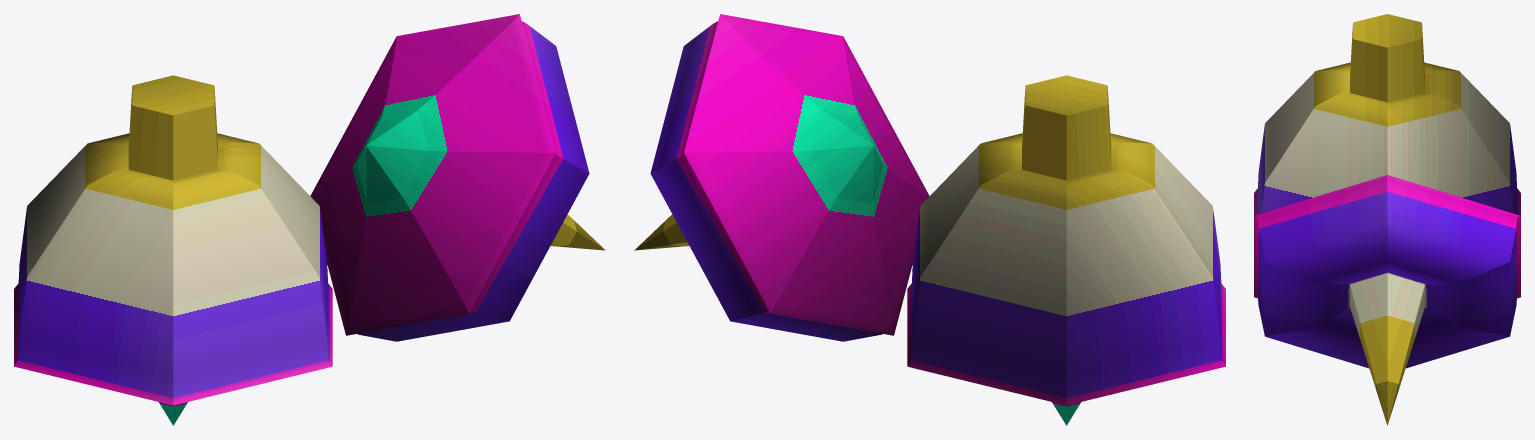
The model's file is SM_SpinTop.fbx.
3 renders of one model, left to right at view 1: azimuth 30°, elevation 25°; view 2: azimuth 150°, elevation 25°; view 3: azimuth 270°, elevation 25°, orthographic. The views are drawn at different scales.
Visible parts, largest first — view 1: STop1, STop2; view 2: STop1, STop2; view 3: STop2, STop1.
Boxes of the visible parts, bbox=[...] form: STop1: bbox=[14, 75, 332, 425]; STop2: bbox=[310, 14, 605, 341]; STop1: bbox=[907, 75, 1225, 425]; STop2: bbox=[634, 14, 929, 341]; STop2: bbox=[1254, 175, 1520, 425]; STop1: bbox=[1254, 14, 1520, 215].
Size of the model in its own units: 6.07 by 3.24 by 2.83.
1 material, 1 textured.
